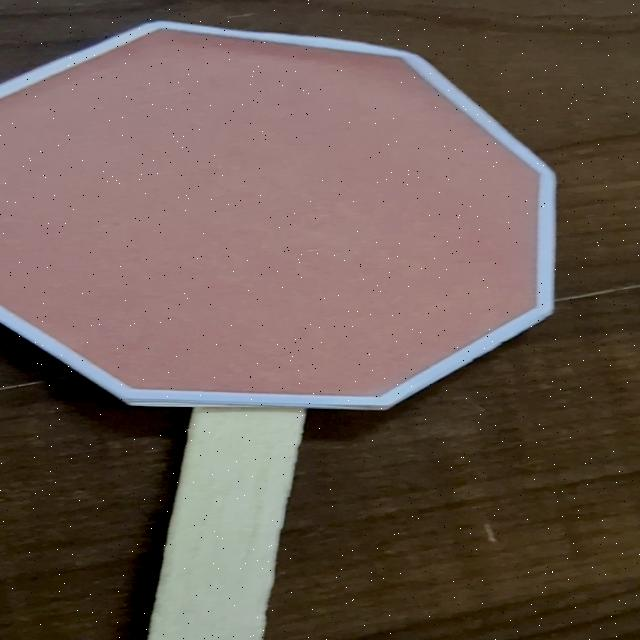Stop: (0, 13, 592, 419)
